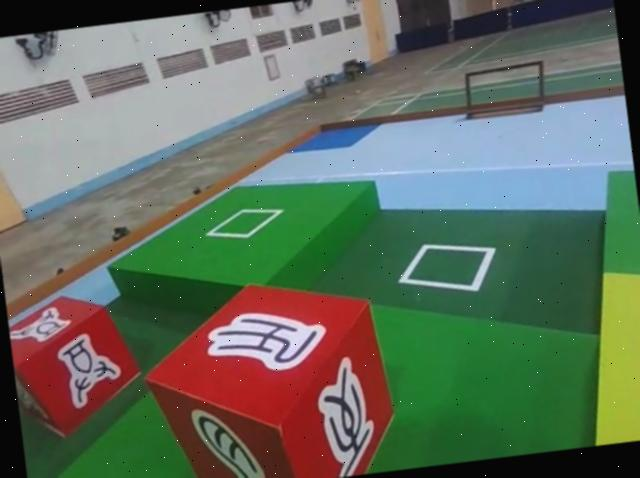R2 Fake: (131, 264, 404, 478)
R2 Real: (5, 282, 151, 447)
